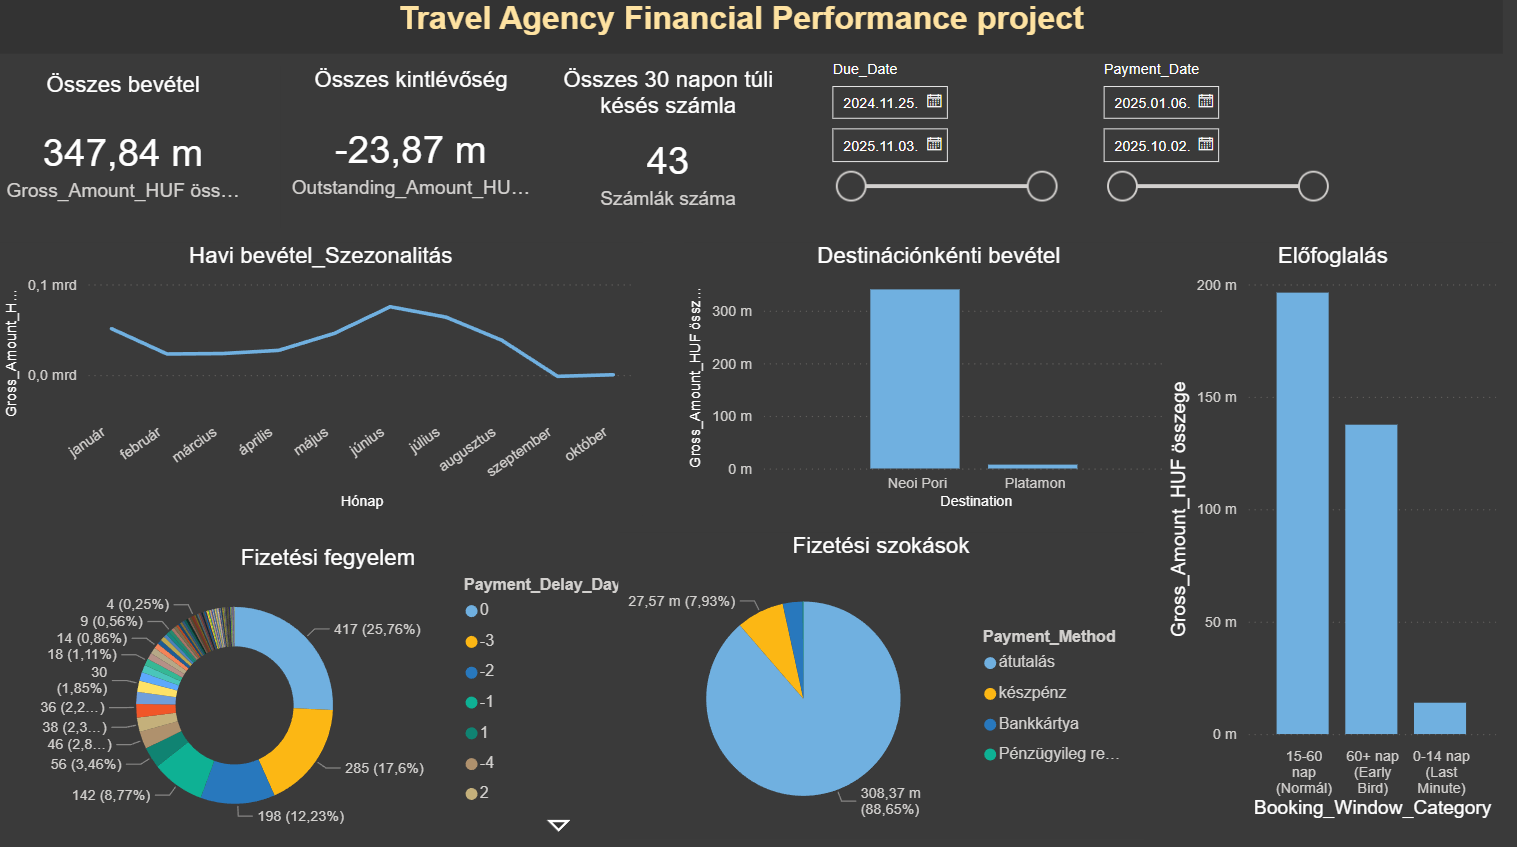

The page's visual inventory and layout, read from the dashboard file:
{"tool":"powerbi","page":{"name":"1. oldal","canvas":[1280,720],"ordinal":0},"visuals":[{"type":"card","title":"Összes bevétel","fields":{"Values":["Sum(Travel_Agency_FINAL_HUNGARIAN.Gross_Amount_HUF)"]},"box":[14.5,64.2,205.9,130.8],"z":0},{"type":"card","title":"Összes kintlévőség","fields":{"Values":["Sum(Travel_Agency_FINAL_HUNGARIAN.Outstanding_Amount_HUF)"]},"box":[248.3,60.6,216.8,134.4],"z":1000},{"type":"card","title":"Összes 30 napon túli késés számla","fields":{"Values":["Travel_Agency_FINAL_HUNGARIAN.Számlák száma"]},"box":[474.8,60.6,191.4,130.8],"z":2000},{"type":"lineChart","title":"Havi bevétel_Szezonalitás","fields":{"Category":["Travel_Agency_FINAL_HUNGARIAN.Issue_Date.Változat.Dátumhierarchia.Év","Travel_Agency_FINAL_HUNGARIAN.Issue_Date.Változat.Dátumhierarchia.Negyedév","Travel_Agency_FINAL_HUNGARIAN.Issue_Date.Változat.Dátumhierarchia.Hónap"],"Y":["Sum(Travel_Agency_FINAL_HUNGARIAN.Gross_Amount_HUF)"]},"box":[14.5,207.1,534.1,226.5],"z":3000},{"type":"clusteredColumnChart","title":"Destinációnkénti bevétel","fields":{"Category":["Travel_Agency_FINAL_HUNGARIAN.Destination"],"Y":["Sum(Travel_Agency_FINAL_HUNGARIAN.Gross_Amount_HUF)"]},"box":[582.6,207.1,425.1,226.5],"z":4000},{"type":"donutChart","title":"Fizetési fegyelem","fields":{"Category":["Travel_Agency_FINAL_HUNGARIAN.Payment_Delay_Days"],"Y":["Travel_Agency_FINAL_HUNGARIAN.Számlák száma"]},"box":[14.5,457.8,546.3,245.9],"z":5000},{"type":"pieChart","title":"Fizetési szokások","fields":{"Category":["Travel_Agency_FINAL_HUNGARIAN.Payment_Method"],"Y":["Sum(Travel_Agency_FINAL_HUNGARIAN.Gross_Amount_HUF)"]},"box":[529.3,448.1,437.2,255.6],"z":6000},{"type":"slicer","fields":{"Values":["Travel_Agency_FINAL_HUNGARIAN.Due_Date"]},"box":[694,50.9,208.3,149],"z":7000},{"type":"slicer","fields":{"Values":["Travel_Agency_FINAL_HUNGARIAN.Payment_Date"]},"box":[919.3,50.9,208.3,130.8],"z":8000},{"type":"textbox","box":[12.1,0,1252.4,49.7],"z":9000},{"type":"clusteredColumnChart","title":"Előfoglalás","fields":{"Category":["Travel_Agency_FINAL_HUNGARIAN.Booking_Window_Category"],"Y":["Sum(Travel_Agency_FINAL_HUNGARIAN.Gross_Amount_HUF)"]},"box":[982.3,207.1,282.2,483.3],"z":10000}]}

Visuals, with their boxes in screenshot pixels (x1, y1, x2, y2), scaled from the page's 1280x720 canvas onto the 1517x847 screenshot:
"Összes bevétel" card: bbox(17, 76, 261, 229)
"Összes kintlévőség" card: bbox(294, 71, 551, 229)
"Összes 30 napon túli késés számla" card: bbox(563, 71, 790, 225)
"Havi bevétel_Szezonalitás" lineChart: bbox(17, 244, 650, 510)
"Destinációnkénti bevétel" clusteredColumnChart: bbox(690, 244, 1194, 510)
"Fizetési fegyelem" donutChart: bbox(17, 539, 665, 828)
"Fizetési szokások" pieChart: bbox(627, 527, 1145, 828)
slicer - Travel_Agency_FINAL_HUNGARIAN.Due_Date: bbox(822, 60, 1069, 235)
slicer - Travel_Agency_FINAL_HUNGARIAN.Payment_Date: bbox(1090, 60, 1336, 214)
textbox: bbox(14, 0, 1499, 58)
"Előfoglalás" clusteredColumnChart: bbox(1164, 244, 1499, 812)
